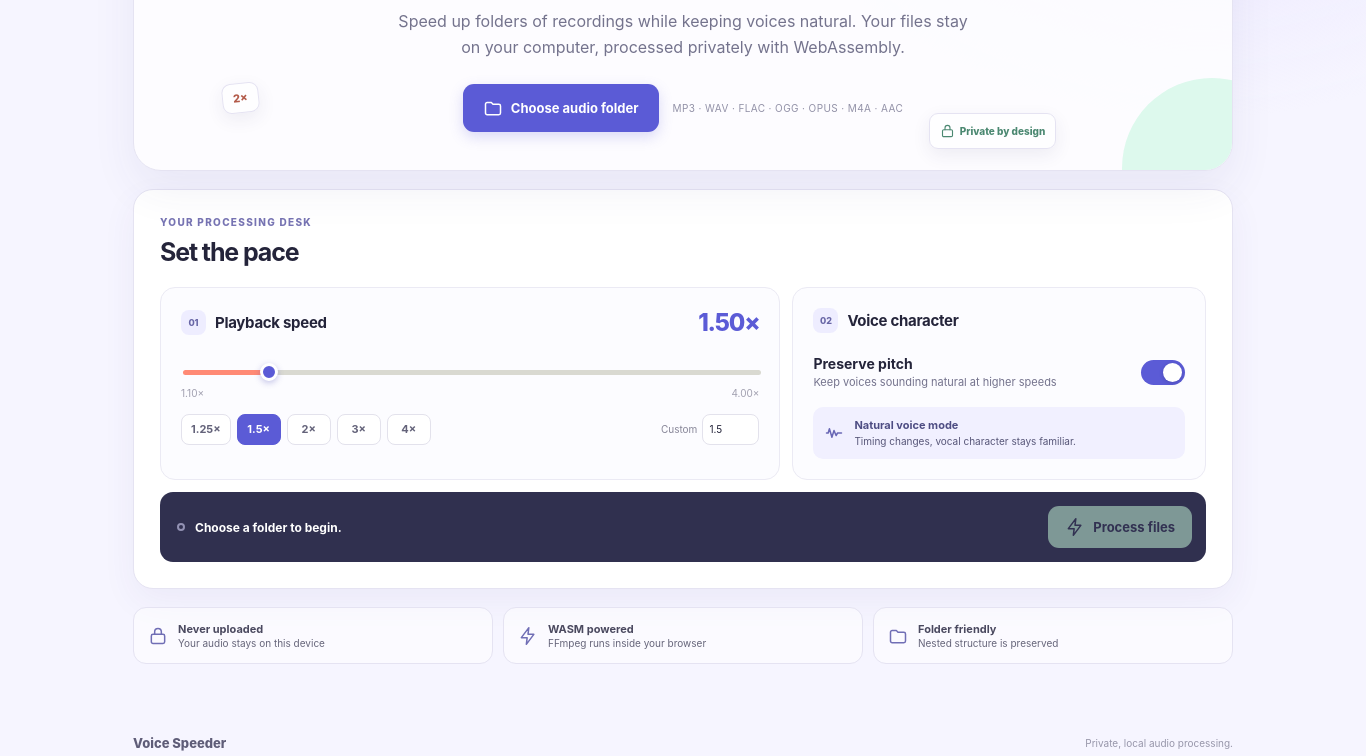
Test: Voice Speeder interface › changes the pitch mode description
The width and height of the screenshot is (1366, 756).
(page scrolled)
Click the checkbox labelled "Preserve pitch Keep voices sounding natural at higher speeds" at x=999, y=372, box [813, 355, 1185, 390]
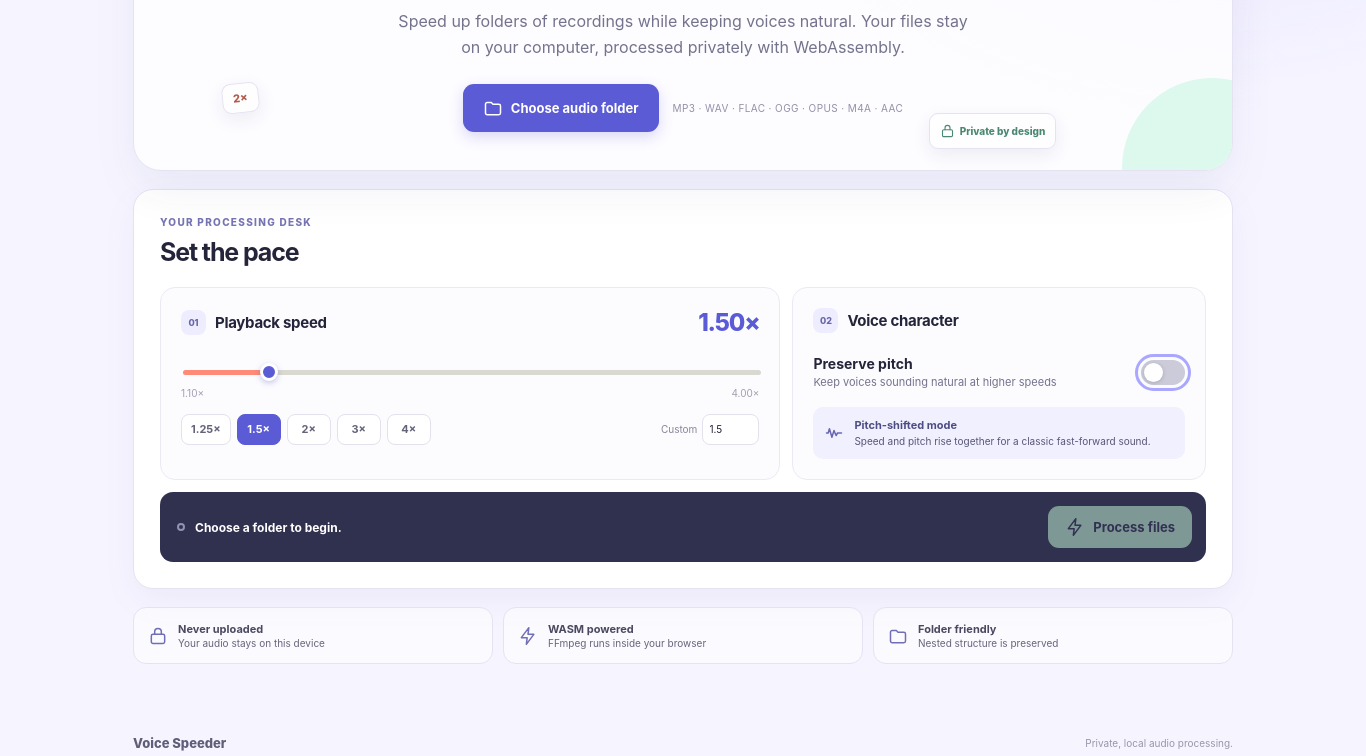
Expected: the text "Pitch-shifted mode" is shown, [854, 418, 957, 432]
